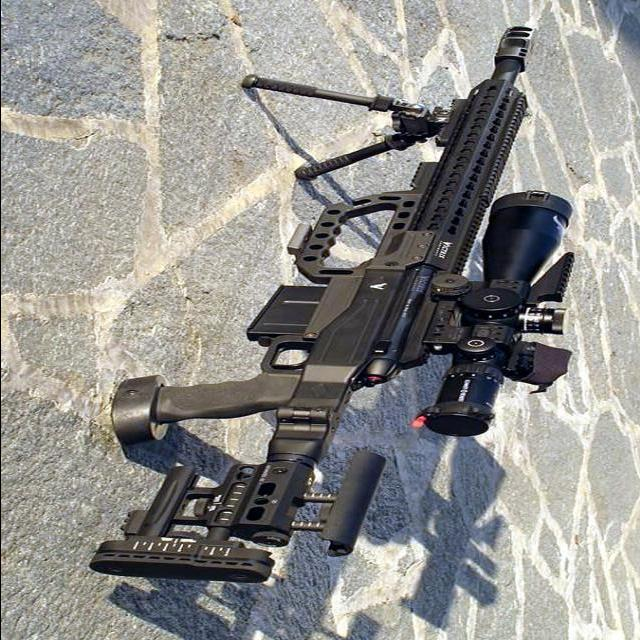scope: (430, 180, 591, 454)
sniper rifle: (50, 17, 586, 607)
